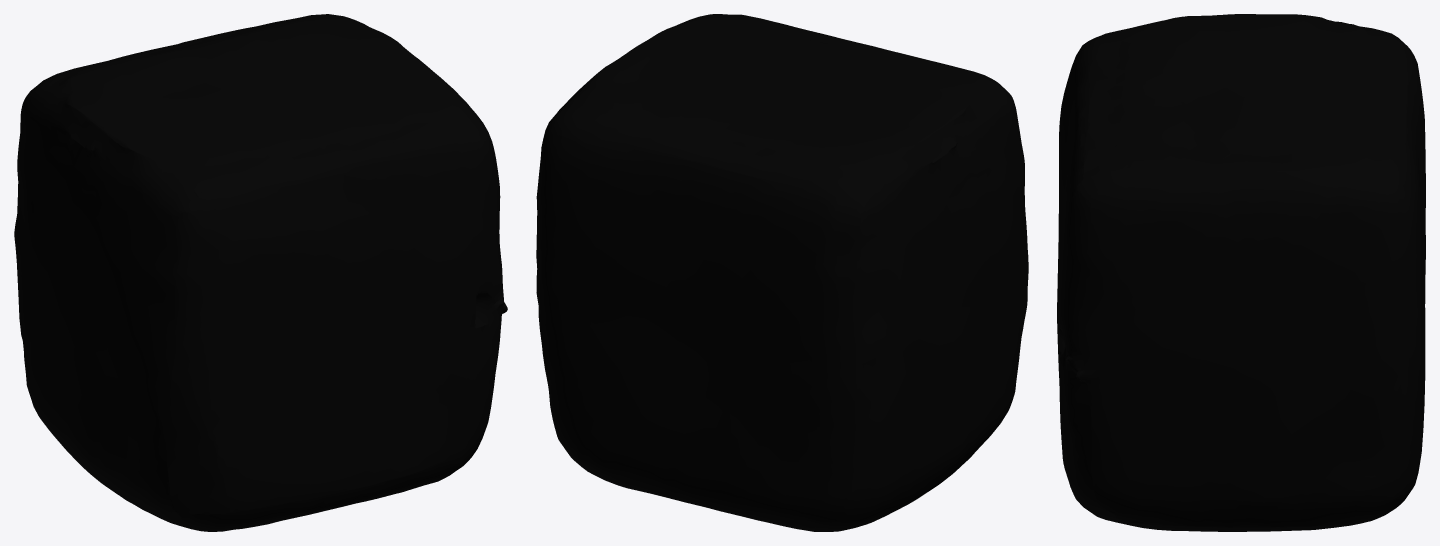
3 renders of one model, left to right at view 1: azimuth 30°, elevation 25°; view 2: azimuth 150°, elevation 25°; view 3: azimuth 270°, elevation 25°, orthographic.
Visible parts, largest first — view 1: world; view 2: world; view 3: world.
Part boxes in pixels (x1,y1,x2,y2): world: (14,14,507,531); world: (536,14,1028,531); world: (1057,14,1425,531).
Size of the model in its own units: 0.3628 by 0.3627 by 0.3192.
Materials: 1 (1 with a texture image).
